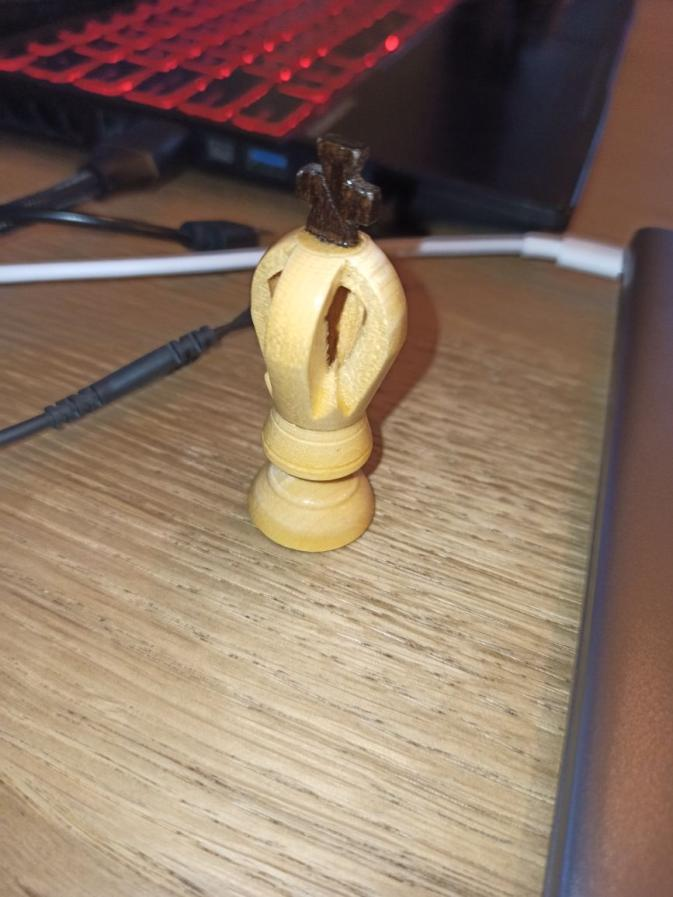wking: (245, 133, 408, 552)
